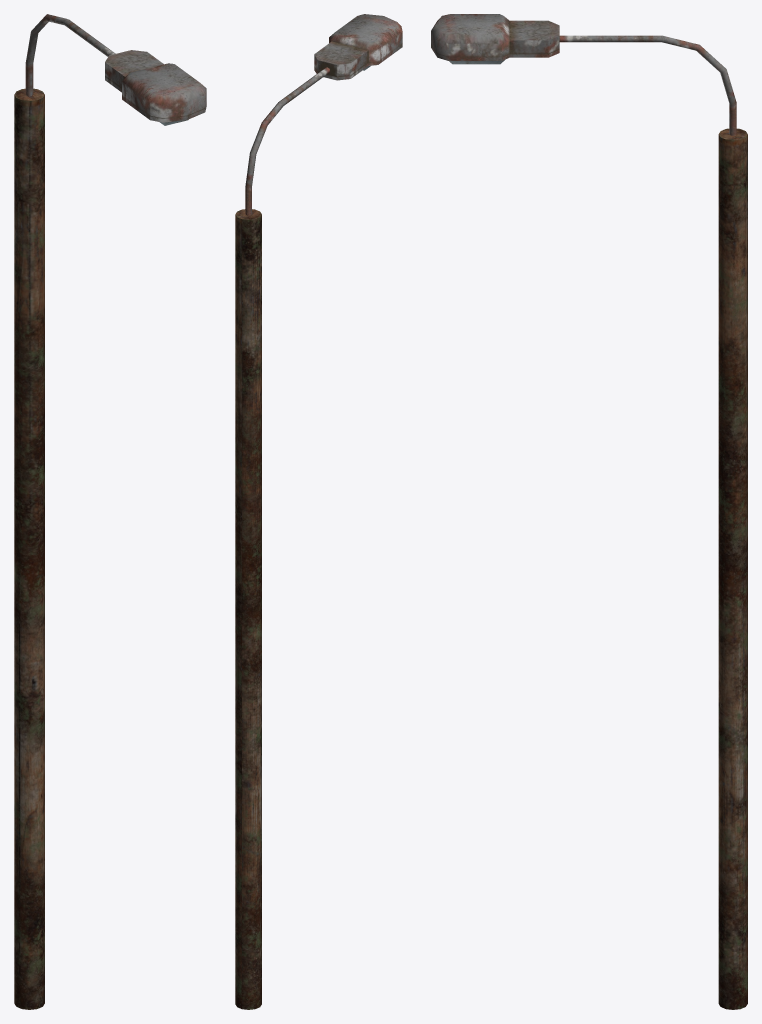
Rendered from pole.fbx.
3 views of the same model, side by side, from view 1: azimuth 30°, elevation 25°; view 2: azimuth 150°, elevation 25°; view 3: azimuth 270°, elevation 25° (orthographic). The views are drawn at different scales.
Visible parts, largest first — view 1: pillar_08; view 2: pillar_08; view 3: pillar_08.
Boxes of the visible parts, x1,y1,x2,y2 form: pillar_08: [14, 14, 206, 1009]; pillar_08: [235, 14, 402, 1009]; pillar_08: [431, 14, 747, 1009].
Bounding box in the file's own units: 42.72 × 739 × 217.
